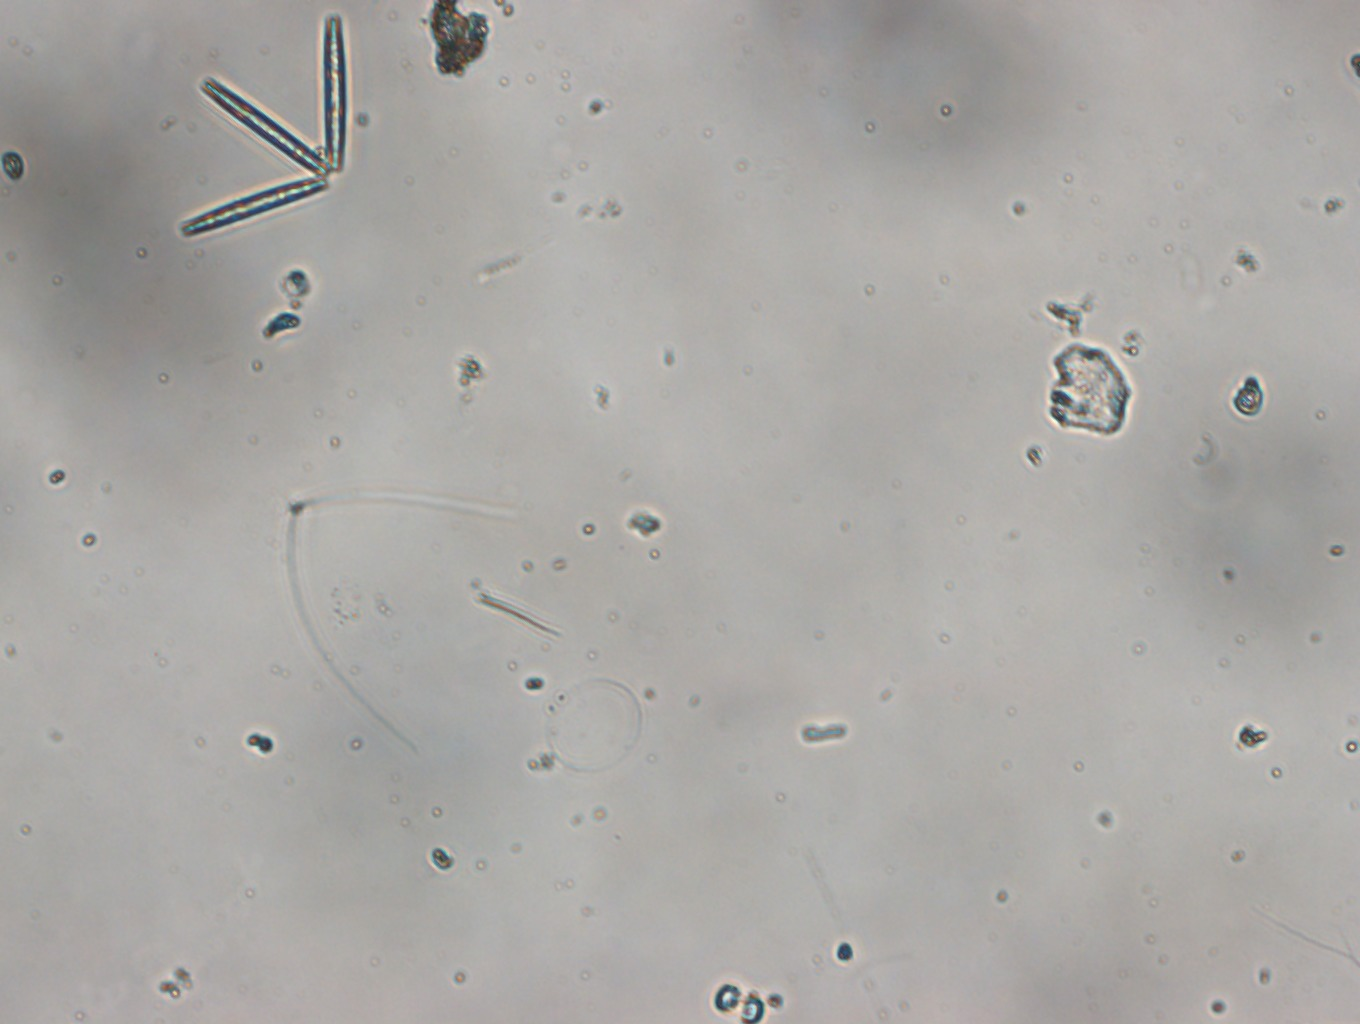thalassionema nitzschioides: (176, 12, 362, 245)
